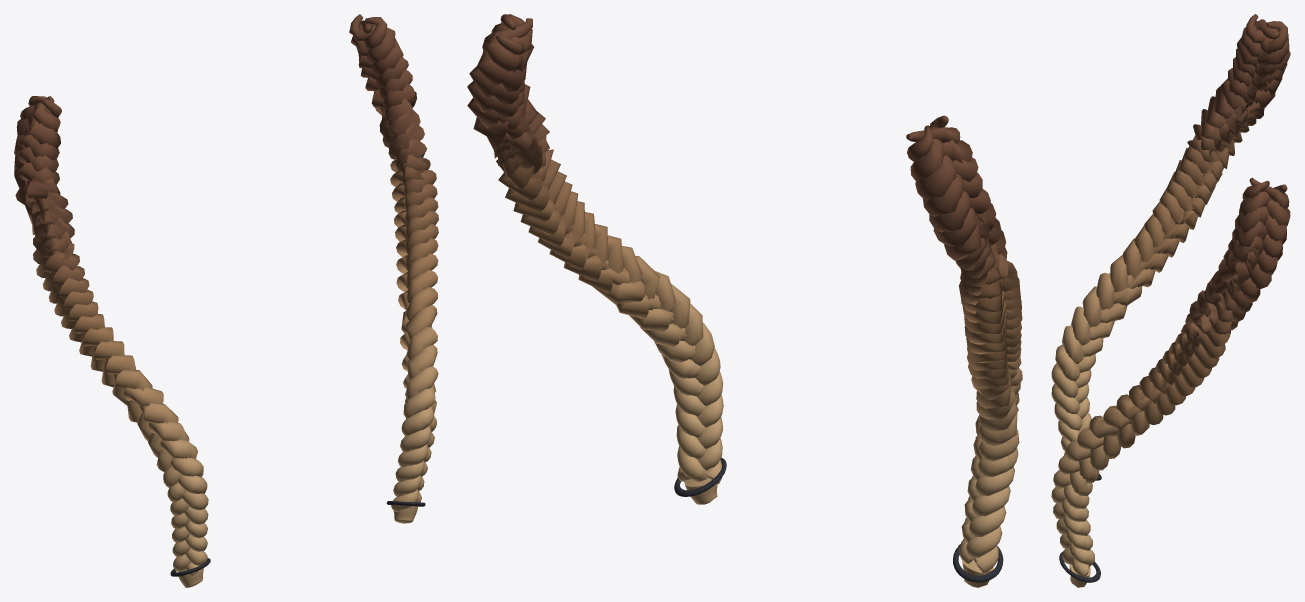
The model's file is twins-none-triangle-ombre.glb.
The picture shows the model from 3 angles, left to right: view 1: azimuth 30°, elevation 25°; view 2: azimuth 150°, elevation 25°; view 3: azimuth 270°, elevation 25°; orthographic projection. The views are drawn at different scales.
Parts seen in each view (by area): view 1: 226 hairLengths / Hair / chestnut226; view 2: 226 hairLengths / Hair / chestnut226, 226 hairLengths / Hair / ties226; view 3: 226 hairLengths / Hair / chestnut226, 226 hairLengths / Hair / ties226.
Part boxes in pixels (x1,y1,x2,y2): 226 hairLengths / Hair / chestnut226: (14, 14, 438, 587); 226 hairLengths / Hair / chestnut226: (467, 14, 1022, 587); 226 hairLengths / Hair / ties226: (674, 457, 1003, 582); 226 hairLengths / Hair / chestnut226: (1051, 14, 1290, 587); 226 hairLengths / Hair / ties226: (1059, 474, 1101, 582).
Bounding box in the file's own units: 0.8713 × 0.9293 × 0.4504.
Materials: 2 (1 with a texture image).
